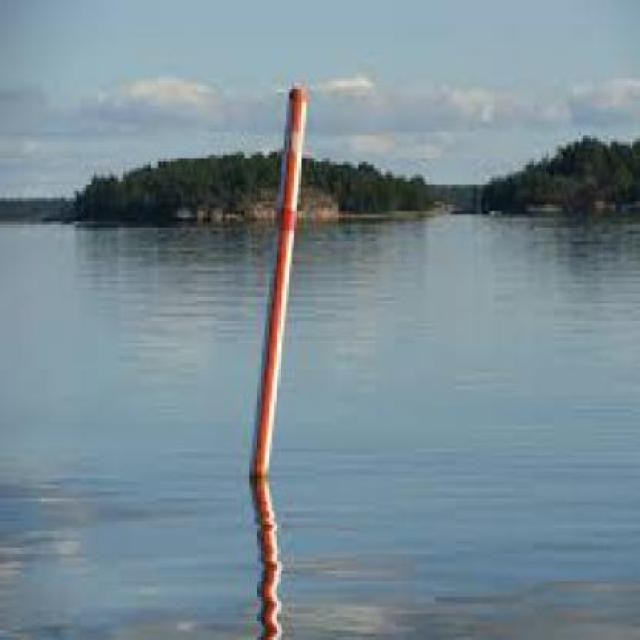buoy: (220, 64, 325, 638), (236, 67, 320, 480)
